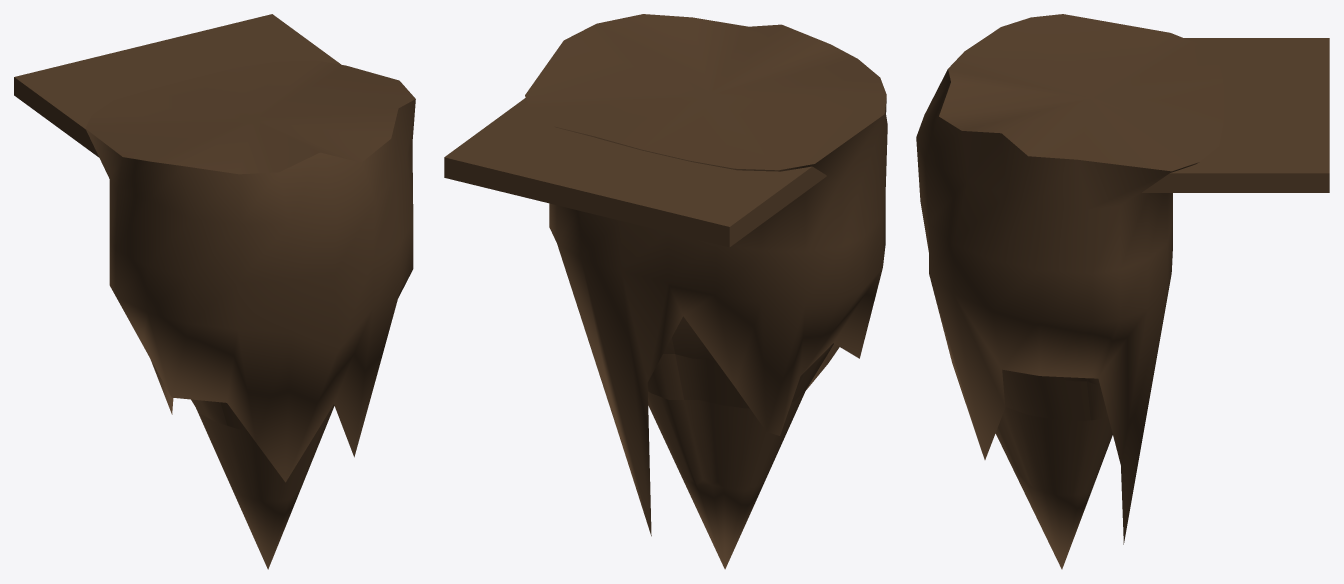
File: Platform4V1.fbx
3 views of the same model, side by side, from view 1: azimuth 30°, elevation 25°; view 2: azimuth 150°, elevation 25°; view 3: azimuth 270°, elevation 25° (orthographic). The views are drawn at different scales.
Parts seen in each view (by area): view 1: pCylinder2, pCube1, pCylinder1; view 2: pCylinder2, pCube1, pCylinder1; view 3: pCylinder2, pCube1, pCylinder1.
Part boxes in pixels (x1,y1,x2,y2): pCylinder2: [85, 60, 415, 482]; pCube1: [14, 14, 340, 157]; pCylinder1: [191, 399, 334, 569]; pCylinder2: [525, 14, 887, 536]; pCube1: [444, 98, 826, 247]; pCylinder1: [647, 316, 833, 569]; pCylinder2: [916, 14, 1224, 544]; pCube1: [1142, 38, 1329, 192]; pCylinder1: [995, 369, 1112, 569].
Size of the model in its own units: 2.58 by 3.98 by 3.04.
